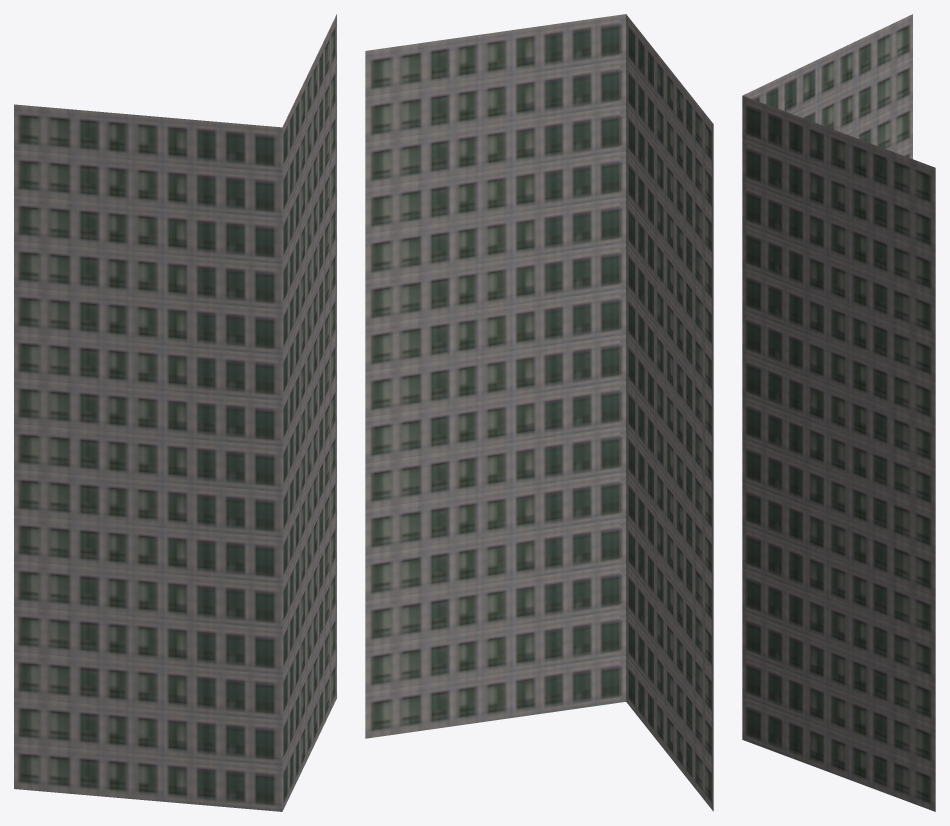
File: Building1TEX.fbx
The picture shows the model from 3 angles, left to right: view 1: azimuth 30°, elevation 25°; view 2: azimuth 150°, elevation 25°; view 3: azimuth 270°, elevation 25°; orthographic projection. The views are drawn at different scales.
Parts seen in each view (by area): view 1: Building1Group2; view 2: Building1Group2; view 3: Building1Group2.
Boxes of the visible parts, x1,y1,x2,y2 form: Building1Group2: (14,14,336,811); Building1Group2: (365,14,713,811); Building1Group2: (742,14,935,811).
Bounding box in the file's own units: 4992 × 9756 × 2650.
